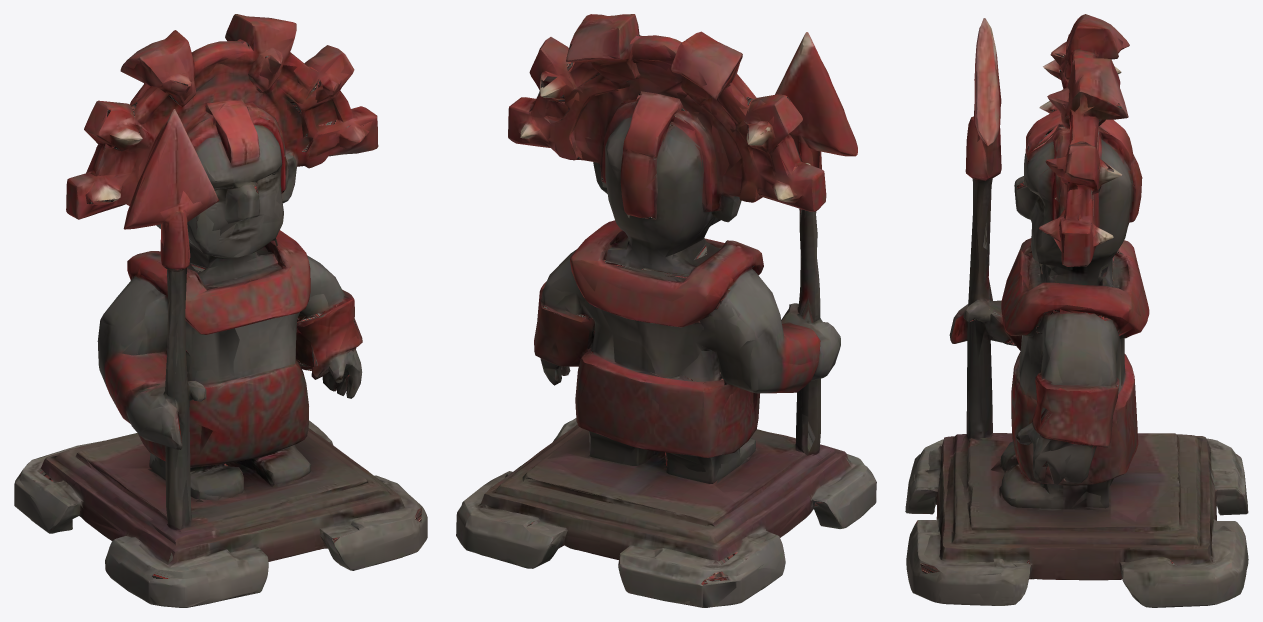
Rendered from temple_spear_statue.glb.
The picture shows the model from 3 angles, left to right: view 1: azimuth 30°, elevation 25°; view 2: azimuth 150°, elevation 25°; view 3: azimuth 270°, elevation 25°; orthographic projection.
Visible parts, largest first — view 1: turn, mesh_lod; view 2: turn, mesh_lod; view 3: turn, mesh_lod.
Part boxes in pixels (left/top/right/bottom): turn: left=14, top=14, right=427, bottom=607; mesh_lod: left=15, top=17, right=427, bottom=604; turn: left=456, top=14, right=876, bottom=607; mesh_lod: left=460, top=14, right=876, bottom=607; turn: left=905, top=14, right=1248, bottom=607; mesh_lod: left=905, top=14, right=1247, bottom=607.
Size of the model in its own units: 2.26 by 3.5 by 2.2.
1 material, 1 textured.
